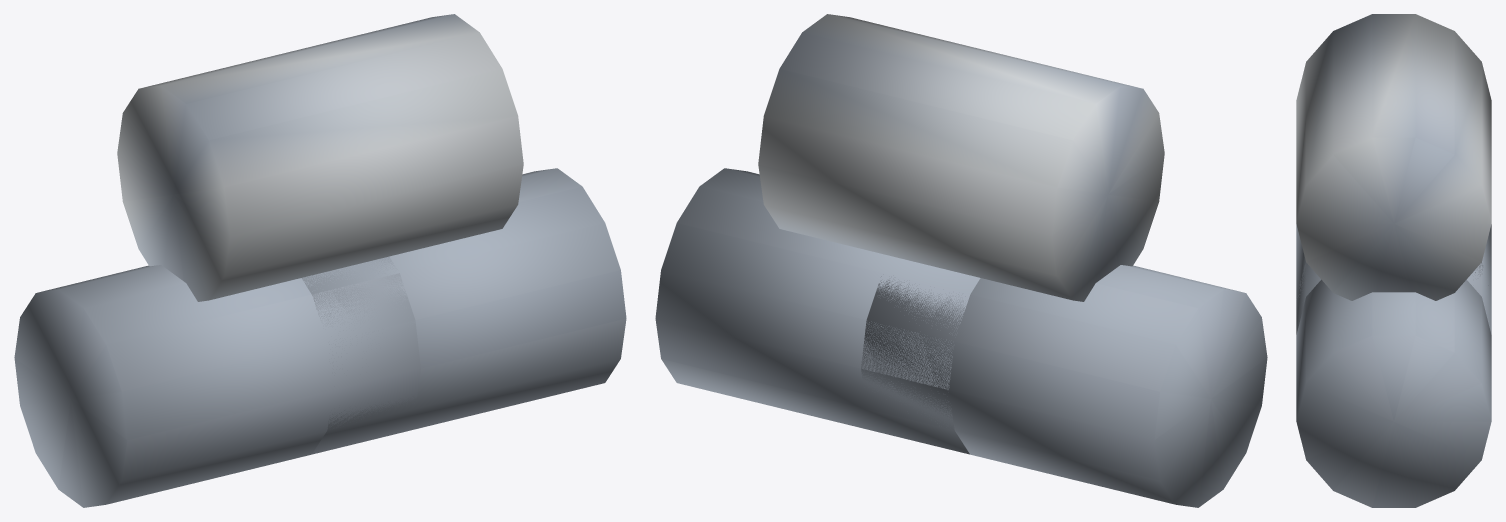
File: Spirit_Logs.glb
The picture shows the model from 3 angles, left to right: view 1: azimuth 30°, elevation 25°; view 2: azimuth 150°, elevation 25°; view 3: azimuth 270°, elevation 25°; orthographic projection. The views are drawn at different scales.
Visible parts, largest first — view 1: Logs; view 2: Logs; view 3: Logs.
Boxes of the visible parts, bbox=[...] form: Logs: bbox=[14, 14, 626, 507]; Logs: bbox=[655, 14, 1267, 507]; Logs: bbox=[1296, 14, 1491, 507].
Bounding box in the file's own units: 1.02 × 0.74 × 0.4.
